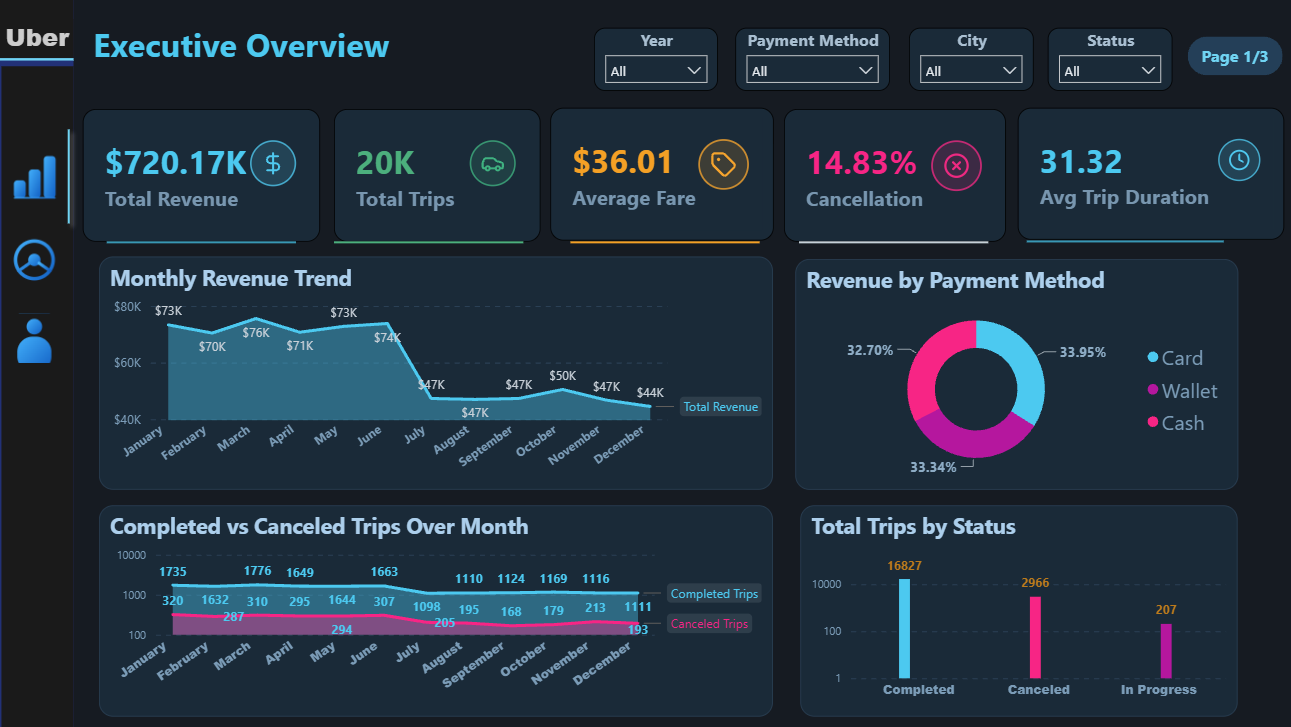

This screenshot's page, from the dashboard's own definition file:
{"tool":"powerbi","page":{"name":"Page 1","canvas":[1280,720],"ordinal":0},"visuals":[{"type":"shape","box":[0,0,69.7,860.3],"z":0},{"type":"textbox","box":[69.7,0,570.2,75.4],"z":1000},{"type":"slicer","title":"Payment Method","fields":{"Values":["dim_payment_method.payment_method_value"]},"box":[727.5,28.8,152.5,62.5],"z":2000},{"type":"slicer","title":"City","fields":{"Values":["dim_location.city"]},"box":[898.7,28.6,123.1,62.1],"z":3000},{"type":"slicer","title":"Status","fields":{"Values":["dim_status.status_value"]},"box":[1035.4,28.6,123.1,62.1],"z":4000},{"type":"shape","box":[1174.5,37,93.8,38.4],"z":5000},{"type":"cardVisual","fields":{"Data":["_measures.Total Revenue"]},"box":[97.5,108.8,206.2,131.2],"z":6000},{"type":"cardVisual","fields":{"Data":["_measures.Total Trips"]},"box":[323.7,108.9,203.1,131.1],"z":7000},{"type":"cardVisual","fields":{"Data":["_measures.Average Fare"]},"box":[552.7,108.9,211.7,131.1],"z":8000},{"type":"cardVisual","fields":{"Data":["_measures.Cancellation Rate"]},"box":[780,108.8,215,131.2],"z":9000},{"type":"cardVisual","fields":{"Data":["_measures.Avg Trip Duration"]},"box":[1007.5,108.8,216.2,130],"z":10000},{"type":"shape","box":[564.5,226.1,187.2,28.8],"z":11000},{"type":"lineChart","title":"Daily Revenue Trend","fields":{"Category":["dim_date.full_date"],"Y":["_measures.Total Revenue"]},"box":[98.8,255,666.2,196.2],"z":12000},{"type":"areaChart","title":"Completed vs Canceled Trips Over Month","fields":{"Y":["_measures.Completed Trips","_measures.Canceled Trips"],"Category":["dim_date.month"]},"box":[98.8,466.2,666.2,253.8],"z":13000},{"type":"clusteredColumnChart","title":"Trips by Status","fields":{"Y":["_measures.Total Trips"],"Category":["dim_status.status_value"],"Series":["dim_status.status_value"]},"box":[791.2,466.2,432.5,242.5],"z":14000},{"type":"shape","box":[331.2,226.1,187.2,28.8],"z":15000},{"type":"donutChart","title":"Revenue by Payment Method","fields":{"Y":["_measures.Total Revenue"],"Category":["dim_payment_method.payment_method_value"]},"box":[786.2,257.5,438.8,193.8],"z":15000,"group":"g1"},{"type":"shape","box":[106.6,226.1,187.2,28.8],"z":16000},{"type":"shape","box":[790.6,226.1,187.2,28.8],"z":17000},{"type":"shape","box":[1015.3,226.1,194.8,27],"z":18000},{"type":"group","id":"g1","title":"Group 1","box":[786.2,257.5,438.8,193.8],"z":19000},{"type":"actionButton","box":[5.7,136.5,58.3,76.8],"z":20000},{"type":"shape","box":[56.9,119.4,24.2,110.9],"z":21000},{"type":"slicer","title":"Year","fields":{"Values":["dim_date.year"]},"box":[587.5,28.8,122.5,62.5],"z":22000},{"type":"actionButton","box":[6.2,218.8,57.5,77.5],"z":23000},{"type":"actionButton","box":[6.2,296.2,57.5,77.5],"z":24000}]}

Visuals, with their boxes in screenshot pixels (x1, y1, x2, y2), scaled from the page's 1280x720 canvas onto the 1291x727 screenshot:
shape: crop(0, 0, 70, 726)
textbox: crop(70, 0, 645, 76)
"Payment Method" slicer: crop(734, 29, 888, 92)
"City" slicer: crop(906, 29, 1031, 92)
"Status" slicer: crop(1044, 29, 1168, 92)
shape: crop(1185, 37, 1279, 76)
cardVisual - _measures.Total Revenue: crop(98, 110, 306, 242)
cardVisual - _measures.Total Trips: crop(326, 110, 531, 242)
cardVisual - _measures.Average Fare: crop(557, 110, 771, 242)
cardVisual - _measures.Cancellation Rate: crop(787, 110, 1004, 242)
cardVisual - _measures.Avg Trip Duration: crop(1016, 110, 1234, 241)
shape: crop(569, 228, 758, 257)
"Daily Revenue Trend" lineChart: crop(100, 257, 772, 456)
"Completed vs Canceled Trips Over Month" areaChart: crop(100, 471, 772, 726)
"Trips by Status" clusteredColumnChart: crop(798, 471, 1234, 716)
shape: crop(334, 228, 523, 257)
"Revenue by Payment Method" donutChart: crop(793, 260, 1236, 456)
shape: crop(108, 228, 296, 257)
shape: crop(797, 228, 986, 257)
shape: crop(1024, 228, 1220, 256)
"Group 1" group: crop(793, 260, 1236, 456)
actionButton: crop(6, 138, 65, 215)
shape: crop(57, 121, 82, 233)
"Year" slicer: crop(593, 29, 716, 92)
actionButton: crop(6, 221, 64, 299)
actionButton: crop(6, 299, 64, 377)
